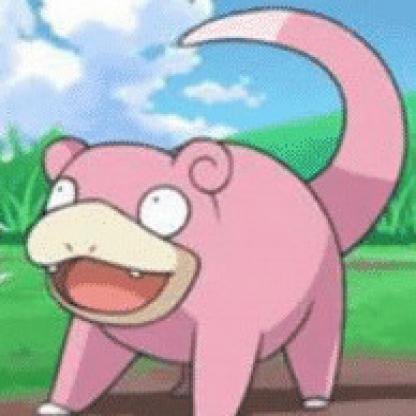Slowpoke: (14, 1, 413, 415)
